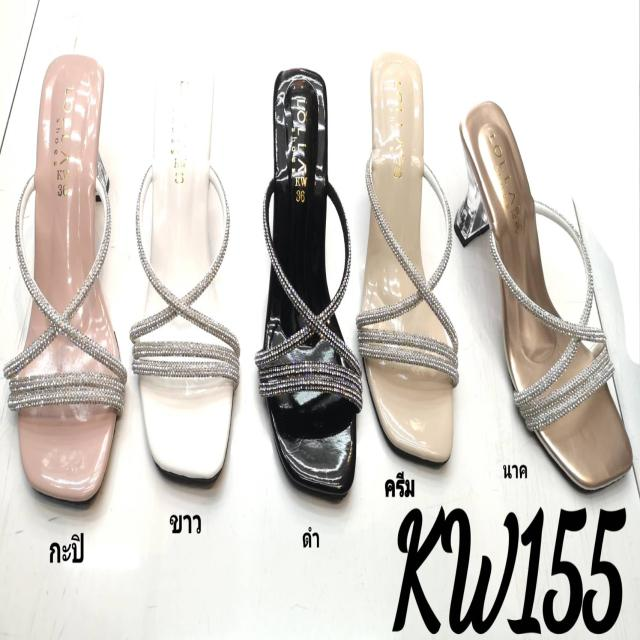black: (261, 68, 358, 494)
cream: (364, 54, 458, 470)
kapi: (19, 54, 118, 506)
nak: (460, 96, 631, 494)
white: (139, 67, 235, 474)
